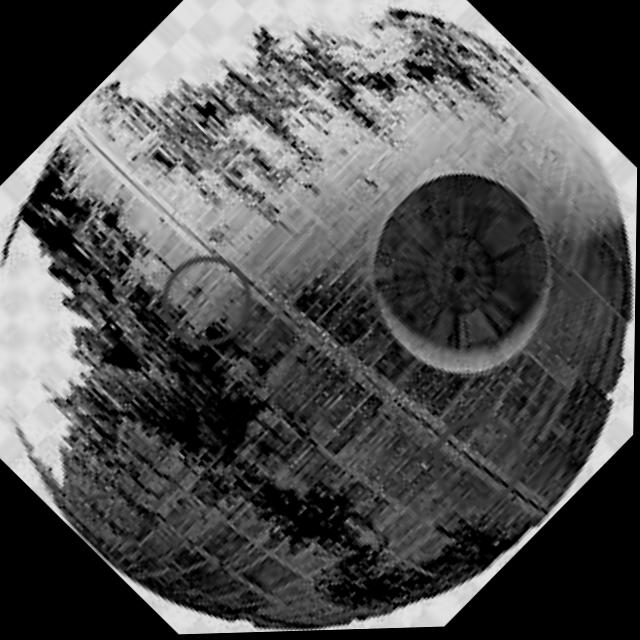death-stars: (0, 11, 634, 634)
